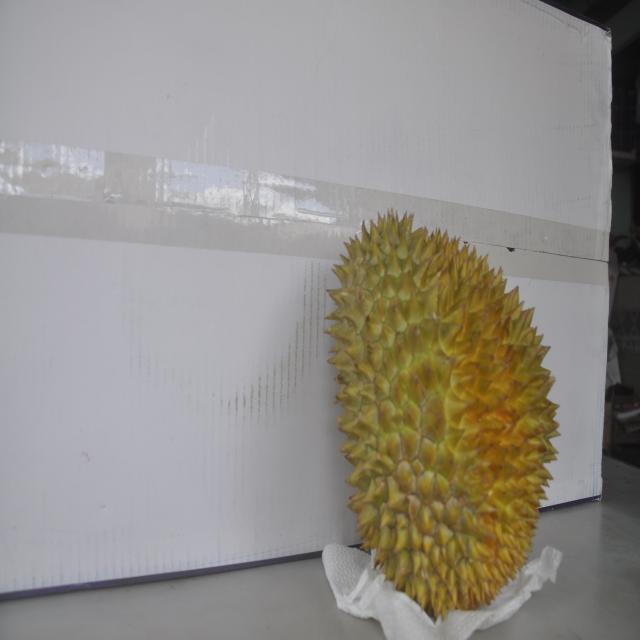mature: (325, 206, 563, 618)
